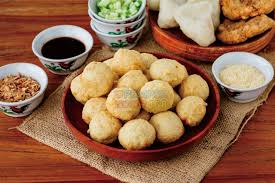Pempek adaan: (140, 78, 174, 111), (112, 41, 148, 72), (150, 111, 189, 139), (118, 121, 157, 149), (108, 87, 141, 120), (81, 60, 112, 95), (87, 116, 127, 143), (175, 94, 205, 128), (152, 55, 184, 86), (179, 74, 210, 98), (79, 98, 109, 122), (118, 70, 147, 91)
